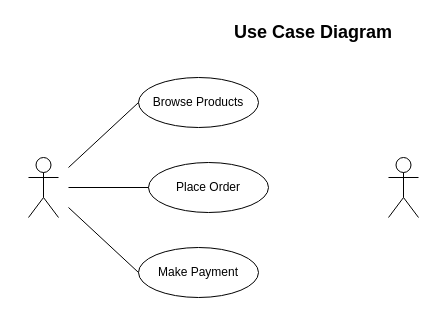
Image size: 446x315. Some labels were removed from this diagram. Each missing label, with the centre of its shape:
"Customer" belongs at [43,187].
"Manager" belongs at [403,187].
